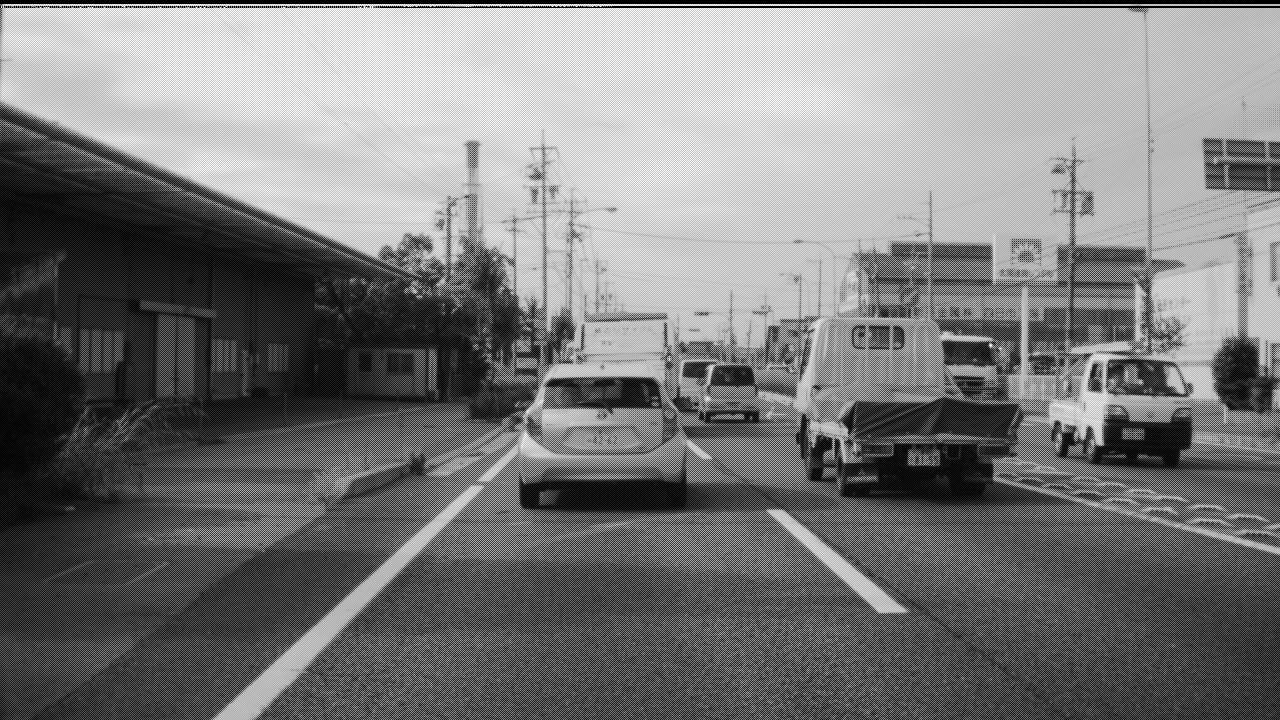pole: (1141, 9, 1155, 266), (1062, 141, 1077, 359), (539, 130, 547, 327), (925, 188, 936, 319), (510, 215, 518, 374), (1020, 285, 1029, 376), (567, 198, 573, 310), (444, 197, 452, 278), (855, 238, 862, 316)
